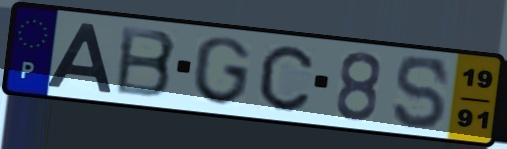8: (334, 50, 383, 123)
A: (43, 21, 115, 95)
B: (112, 23, 180, 100)
C: (257, 43, 316, 114)
G: (190, 34, 253, 109)
S: (392, 54, 453, 132)
